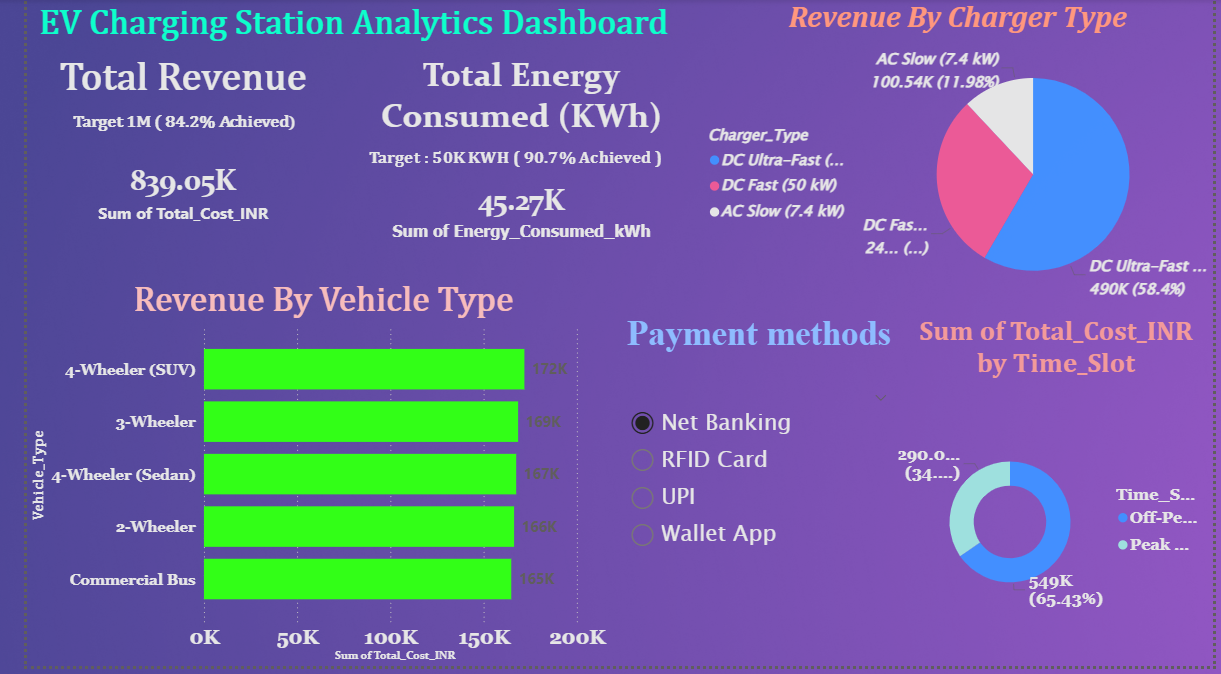

Layout of this report page (visuals, bound fields, positions):
{"tool":"powerbi","page":{"name":"Page 1","canvas":[1280,720],"ordinal":0},"visuals":[{"type":"card","title":"Total Revenue","fields":{"Values":["Sum(Sheet1.Total_Cost_INR)"]},"box":[0,61.5,336.8,244.5],"z":0},{"type":"card","title":"Total Energy Consumed (KWh)","fields":{"Values":["Sum(Sheet1.Energy_Consumed_kWh)"]},"box":[336.5,60.3,393.7,244.4],"z":1000},{"type":"clusteredBarChart","title":"Revenue By Vehicle Type ","fields":{"Category":["Sheet1.Vehicle_Type"],"Y":["Sum(Sheet1.Total_Cost_INR)"]},"box":[0,304.4,639.6,416.1],"z":2000},{"type":"pieChart","title":"Revenue By Charger Type ","fields":{"Category":["Sheet1.Charger_Type"],"Y":["Sum(Sheet1.Total_Cost_INR)"]},"box":[730.3,0,548.9,340],"z":3000},{"type":"slicer","title":"Payment methods ","fields":{"Values":["Sheet1.Payment_Method"]},"box":[639.6,340,301.2,378.9],"z":4000},{"type":"textbox","box":[0,0,704.8,60.3],"z":5000},{"type":"donutChart","fields":{"Category":["Sheet1.Time_Slot"],"Y":["Sum(Sheet1.Total_Cost_INR)"]},"box":[940.8,340,340,378.9],"z":6000},{"type":"textbox","box":[17.8,116.6,302.8,37.2],"z":7000},{"type":"textbox","box":[336.8,153.8,380.5,43.7],"z":8000}]}

Visuals, with their boxes in screenshot pixels (x1, y1, x2, y2), scaled from the page's 1280x720 canvas onto the 1221x674 screenshot:
"Total Revenue" card: (left=0, top=58, right=321, bottom=286)
"Total Energy Consumed (KWh)" card: (left=321, top=56, right=697, bottom=285)
"Revenue By Vehicle Type " clusteredBarChart: (left=0, top=285, right=610, bottom=673)
"Revenue By Charger Type " pieChart: (left=697, top=0, right=1220, bottom=318)
"Payment methods " slicer: (left=610, top=318, right=897, bottom=673)
textbox: (left=0, top=0, right=672, bottom=56)
donutChart - Sheet1.Time_Slot x Sum(Sheet1.Total_Cost_INR): (left=897, top=318, right=1220, bottom=673)
textbox: (left=17, top=109, right=306, bottom=144)
textbox: (left=321, top=144, right=684, bottom=185)
